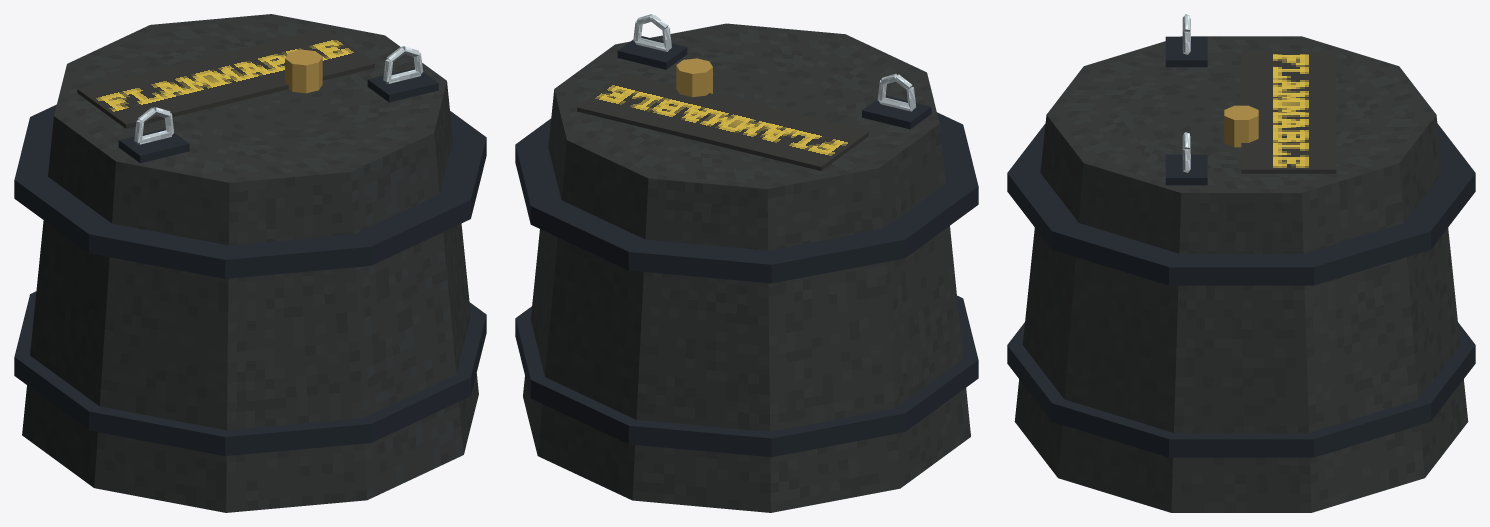
Rendered from f_432gal_drum_rubber.glb.
3 views of the same model, side by side, from view 1: azimuth 30°, elevation 25°; view 2: azimuth 150°, elevation 25°; view 3: azimuth 270°, elevation 25° (orthographic). The views are drawn at different scales.
Parts seen in each view (by area): view 1: block_tank-shell, block_reinforcing-band-0.5304000000000001, block_reinforcing-band-0.1496, block_flammable-stencil, block_D-ring-tab (×2), block_valve; view 2: block_tank-shell, block_reinforcing-band-0.5304000000000001, block_reinforcing-band-0.1496, block_flammable-stencil, block_D-ring-tab (×2), block_valve; view 3: block_tank-shell, block_reinforcing-band-0.5304000000000001, block_reinforcing-band-0.1496, block_flammable-stencil, block_D-ring-tab (×2), block_valve.
Boxes of the visible parts, x1,y1,x2,y2 form: block_tank-shell: (22, 14, 478, 512); block_reinforcing-band-0.5304000000000001: (14, 104, 486, 278); block_reinforcing-band-0.1496: (14, 291, 486, 455); block_flammable-stencil: (77, 28, 374, 128); block_D-ring-tab (×2): (118, 68, 438, 163); block_valve: (285, 49, 322, 93); block_tank-shell: (523, 23, 970, 512); block_reinforcing-band-0.5304000000000001: (515, 112, 978, 283); block_reinforcing-band-0.1496: (515, 295, 978, 457); block_flammable-stencil: (577, 72, 868, 170); block_D-ring-tab (×2): (617, 36, 931, 129); block_valve: (676, 58, 712, 97); block_tank-shell: (1014, 36, 1468, 512); block_reinforcing-band-0.5304000000000001: (1007, 123, 1475, 285); block_reinforcing-band-0.1496: (1007, 322, 1475, 457); block_flammable-stencil: (1241, 51, 1336, 173); block_D-ring-tab (×2): (1165, 36, 1207, 185); block_valve: (1224, 105, 1258, 147).
Bounding box in the file's own units: 0.894 × 0.7708 × 0.94.
1 material, 1 textured.
